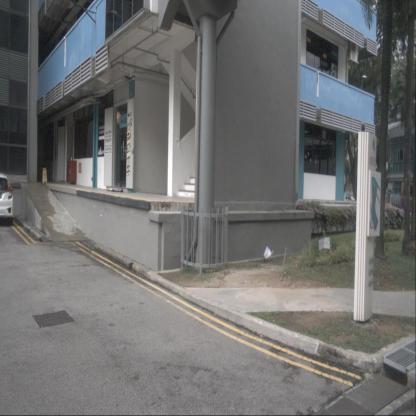vehicle-car: (0, 173, 14, 225)
